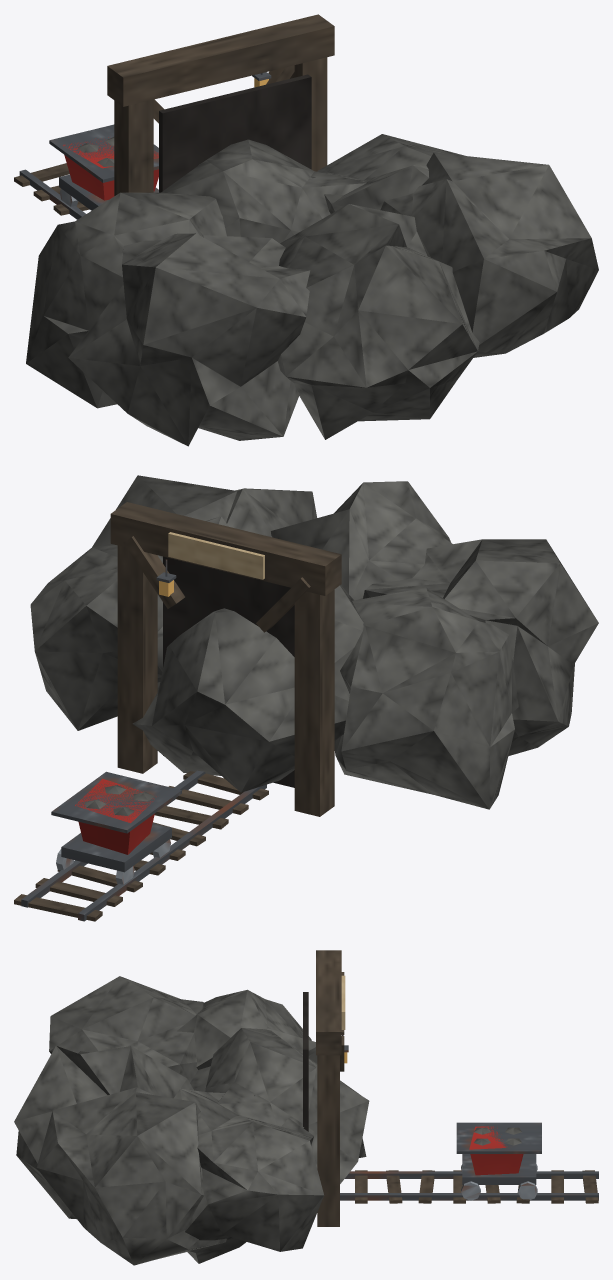
The model's file is SM_POI_MineEntrance.fbx.
3 views of the same model, one above another, from view 1: azimuth 30°, elevation 25°; view 2: azimuth 150°, elevation 25°; view 3: azimuth 270°, elevation 25° (orthographic). The views are drawn at different scales.
Visible parts, largest first — view 1: SM_POI_MineEntrance; view 2: SM_POI_MineEntrance; view 3: SM_POI_MineEntrance.
Boxes of the visible parts, x1,y1,x2,y2 form: SM_POI_MineEntrance: [14, 14, 598, 446]; SM_POI_MineEntrance: [14, 475, 598, 921]; SM_POI_MineEntrance: [14, 950, 598, 1265].
Size of the model in its own units: 15.71 by 8.47 by 20.56.
1 material, 1 textured.
